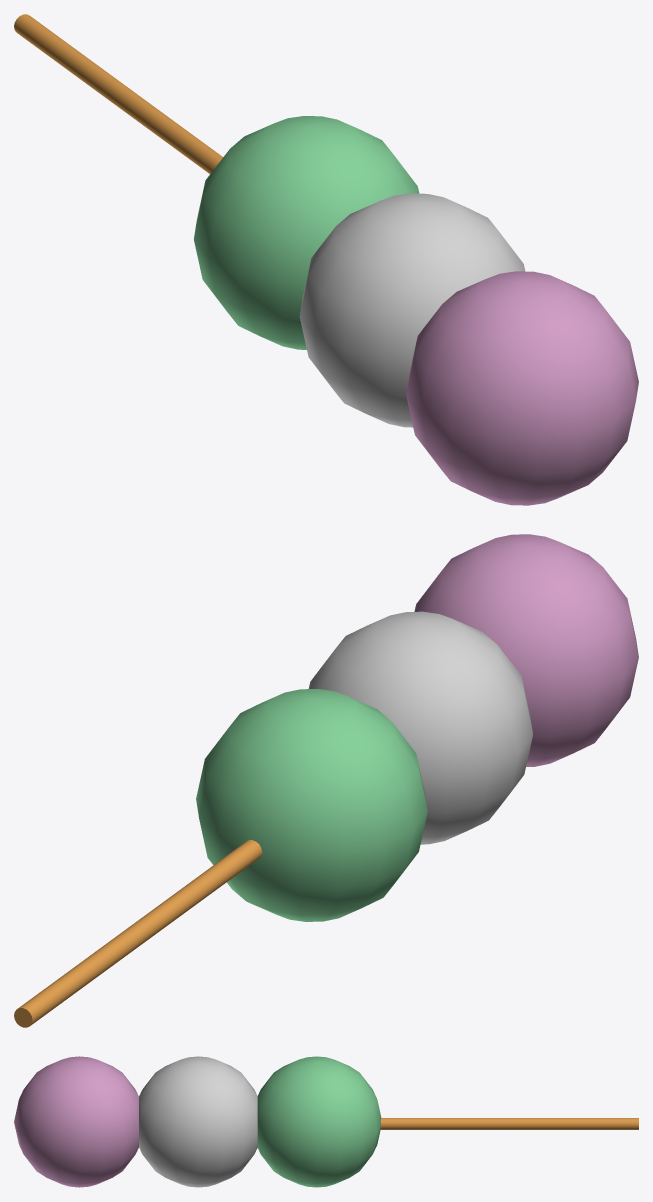
Rendered from dango.fbx.
3 renders of one model, top to bottom at view 1: azimuth 30°, elevation 25°; view 2: azimuth 150°, elevation 25°; view 3: azimuth 270°, elevation 25°, orthographic. The views are drawn at different scales.
Parts seen in each view (by area): view 1: pink, white, green, stick; view 2: green, pink, white, stick; view 3: green, pink, white, stick.
Boxes of the visible parts, left/top/right/bottom form: pink: left=406, top=271, right=638, bottom=505; white: left=299, top=193, right=525, bottom=427; green: left=194, top=116, right=419, bottom=349; stick: left=14, top=14, right=223, bottom=173; green: left=196, top=689, right=427, bottom=921; pink: left=414, top=534, right=638, bottom=766; white: left=308, top=611, right=532, bottom=844; stick: left=14, top=839, right=262, bottom=1027; green: left=257, top=1056, right=381, bottom=1187; pink: left=14, top=1056, right=138, bottom=1187; white: left=139, top=1056, right=257, bottom=1187; stick: left=380, top=1118, right=638, bottom=1129.
Bounding box in the file's own units: 200 × 200 × 953.
